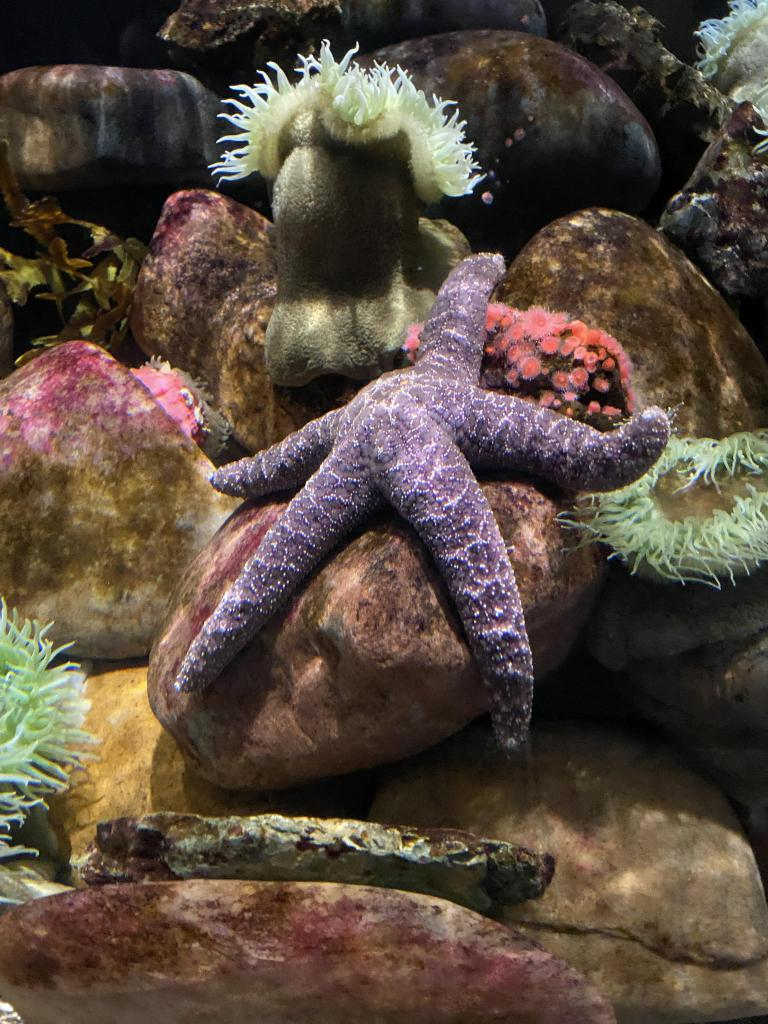starfish: (175, 250, 669, 762)
